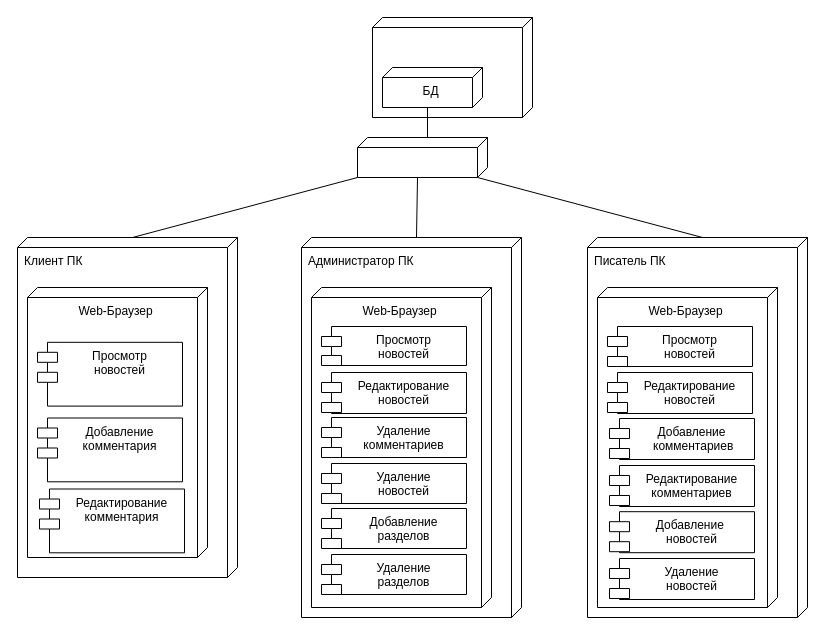
The diagram is 825 pixels wide and 635 high, and some of its shapes have lost their labels. Each missing label, with the centre of its shape:
"Web-сервер" goes at point 422,157.
"Сервер БД" goes at point 452,67.
